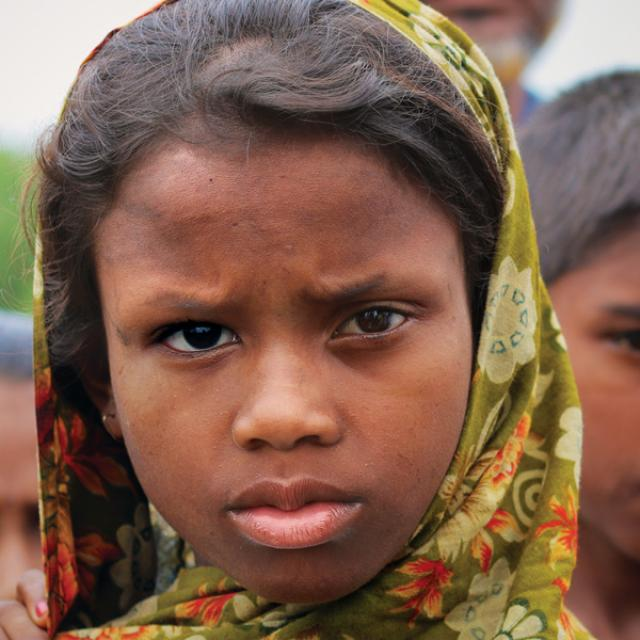face: (64, 118, 534, 609)
